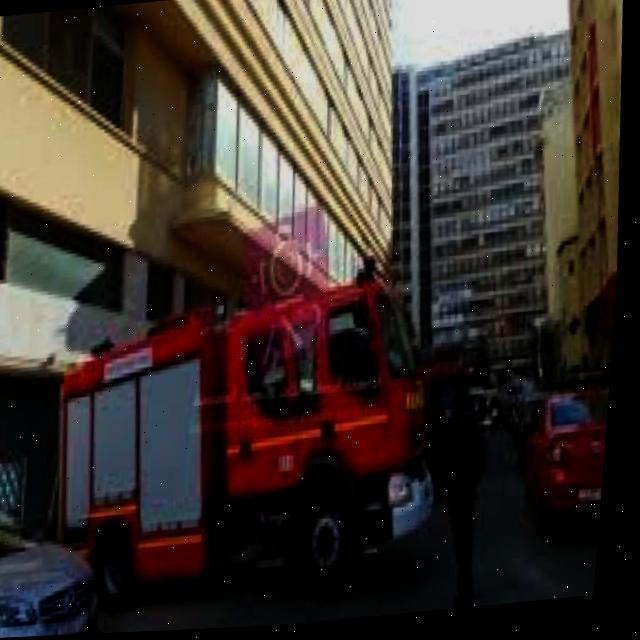emergency: (59, 281, 458, 623)
